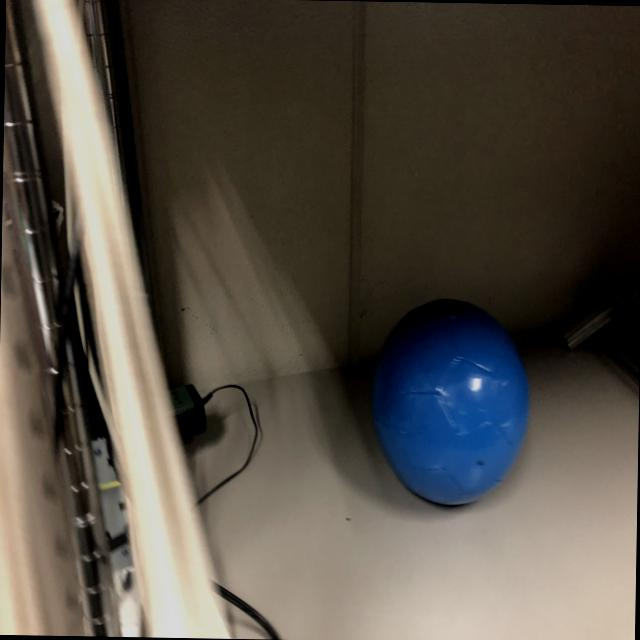blue_ball: (369, 299, 531, 508)
